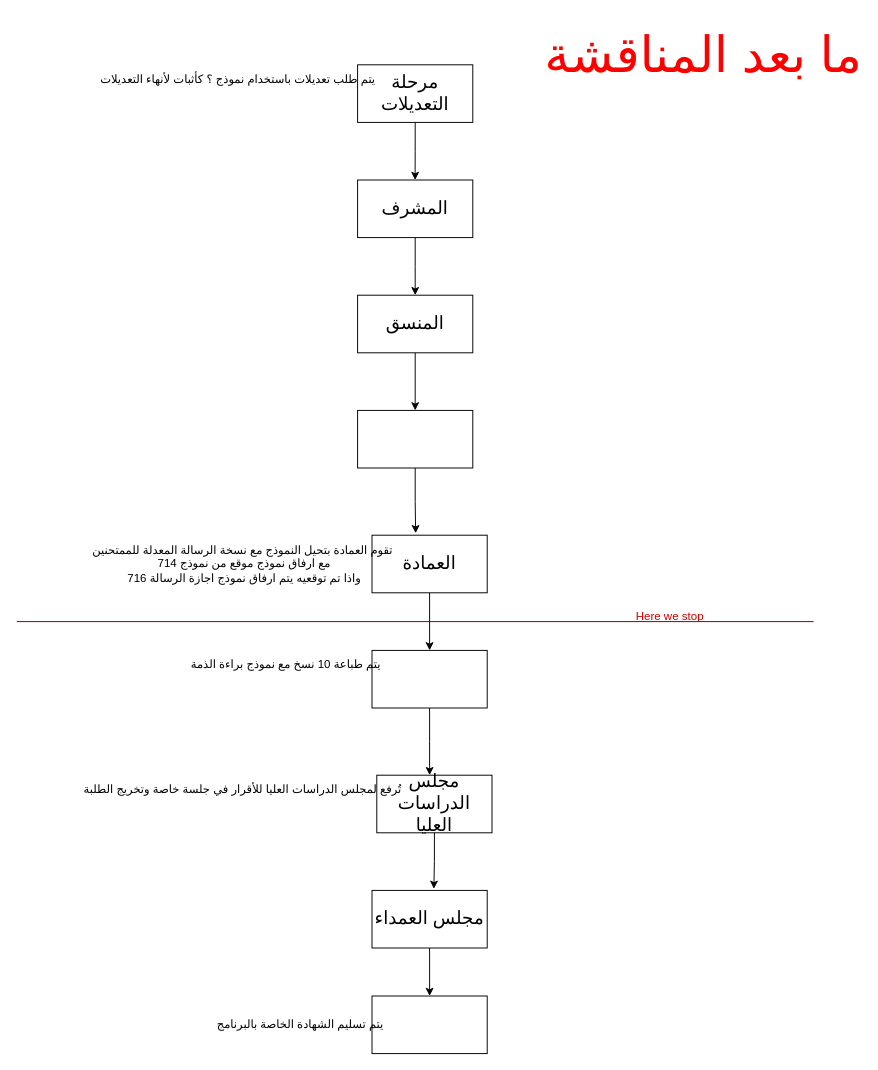
Image size: 878x1070. Some labels were removed from this diagram. The shapes that lost their labels are listed below. From the top down, each one's centre as x and y in pixels, then its label:
the point at 415,438: رئيس القسم
the point at 429,678: طباعة الرسالة وتسليمها
the point at 429,1024: القبول والتسجيل
